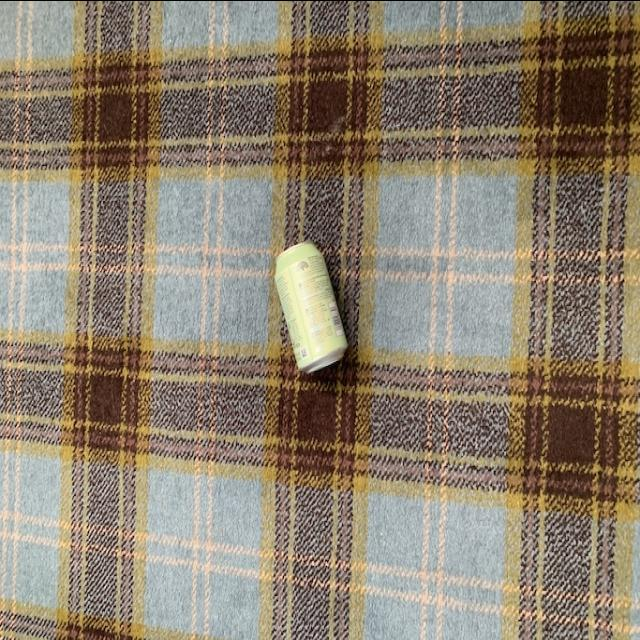Aluminum Can: (267, 231, 360, 379)
